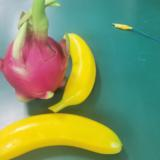pitaya: (2, 10, 69, 102)
